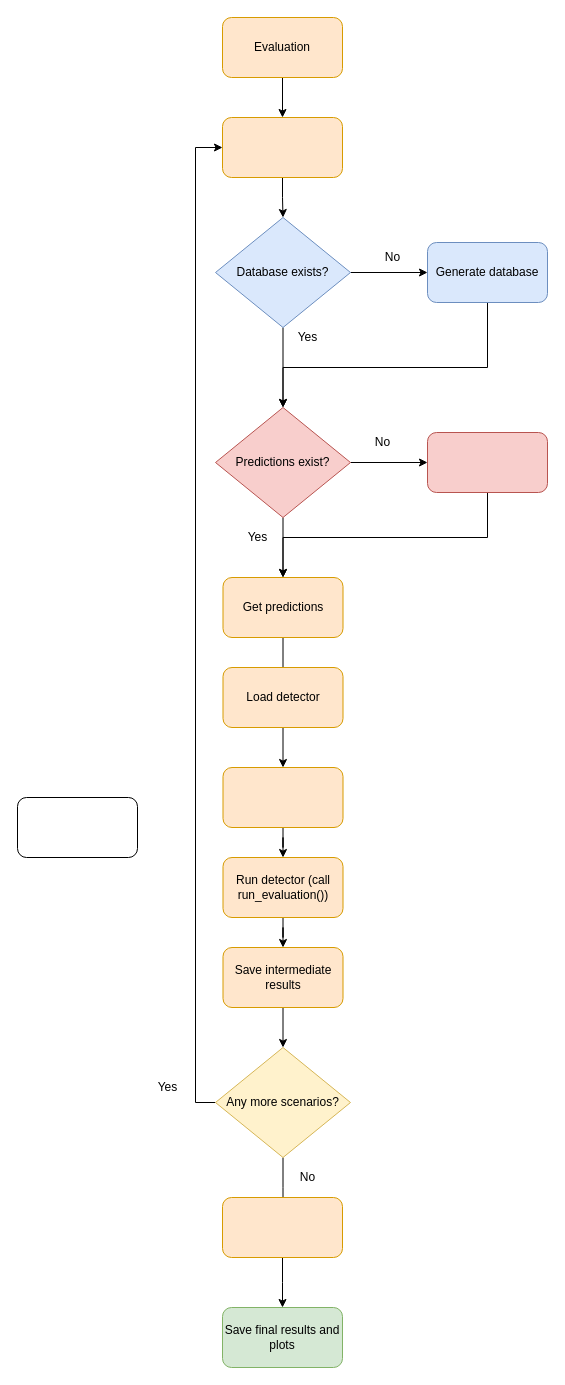
Some shapes in this 565 by 1385 pixel diagram are drawn without their labels. Each missing label, with the centre of its shape:
Call the model: (487,462)
classes: (77,827)
Consolidate results in one object: (282,1227)
Iterate over scenarios: (282,147)
Load tags: (282,797)
